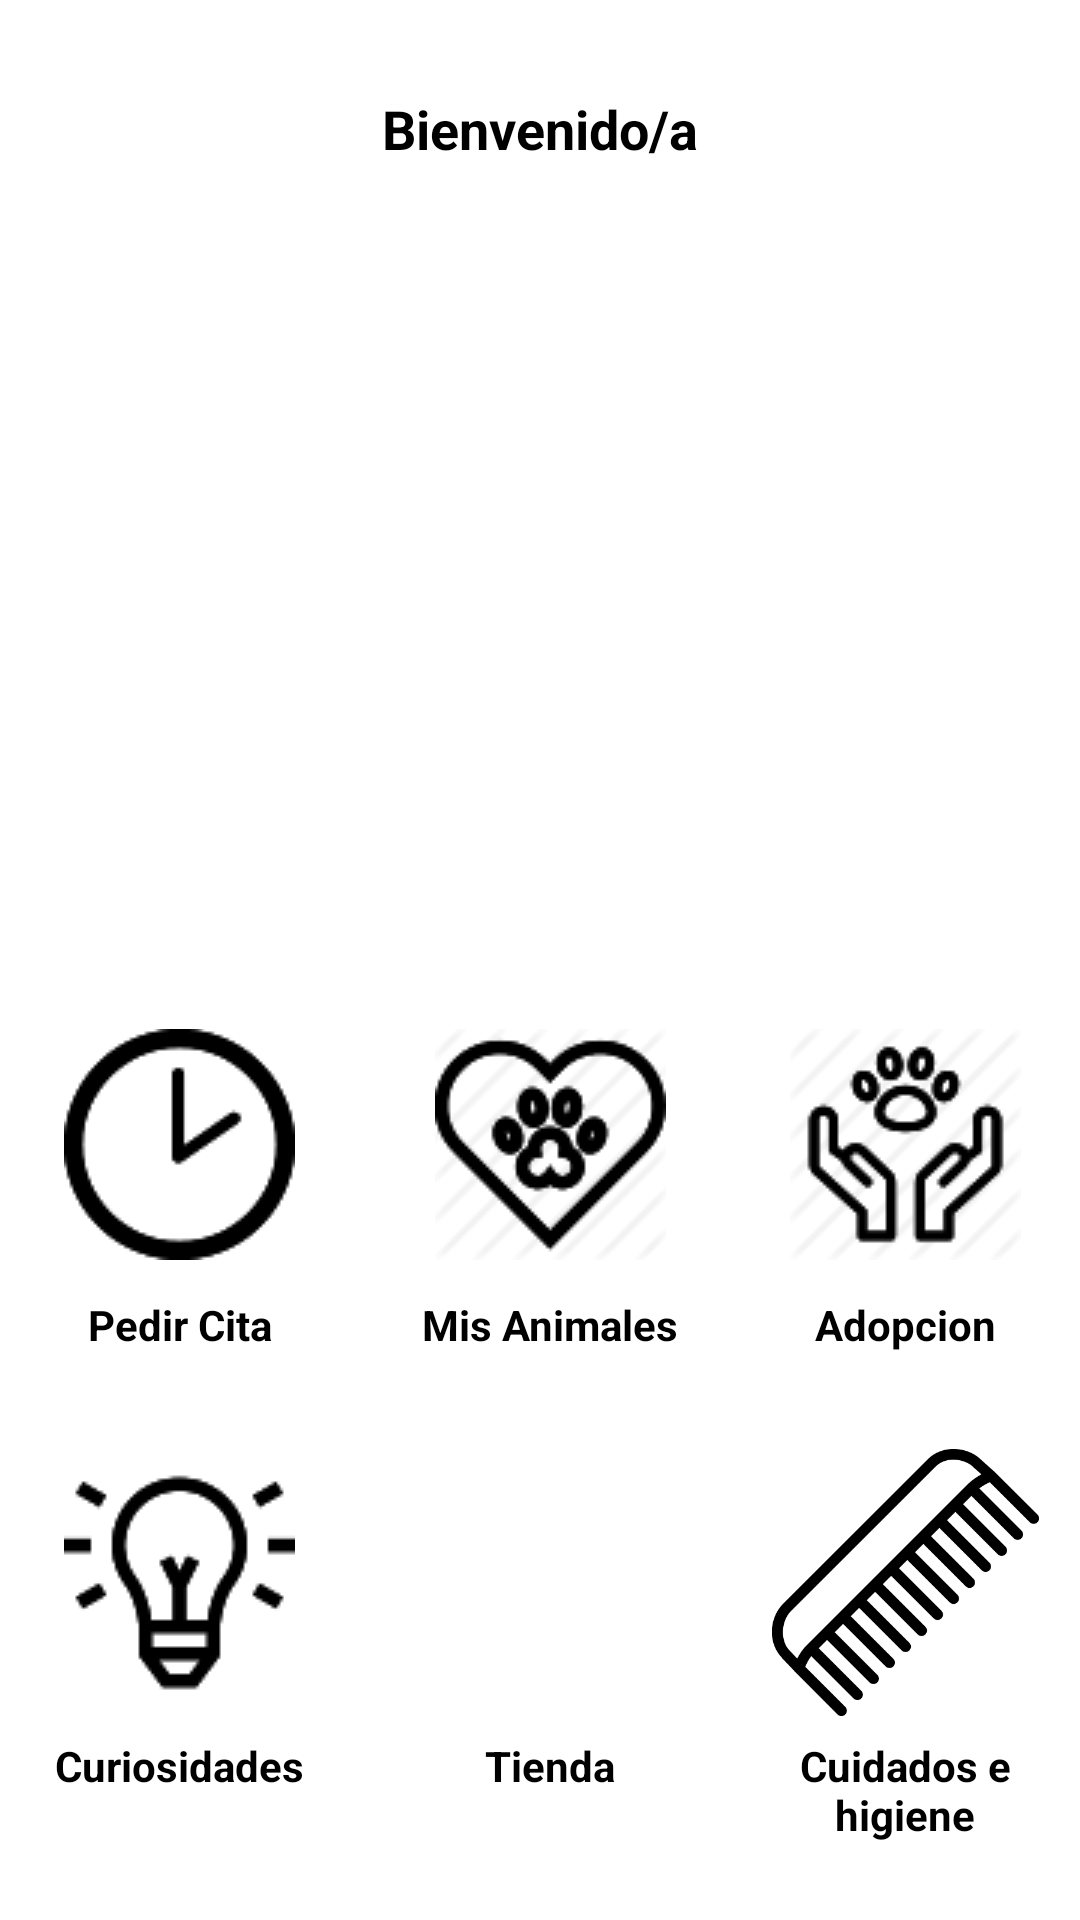

Named icons in this screenshot (1080*1920) and their centers, point (x, y):
bombilla: point (179, 1582)
comb: point (905, 1582)
